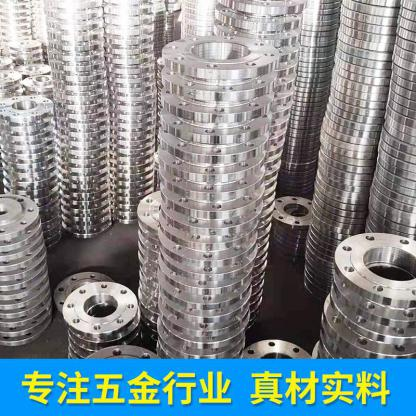FOD: (60, 278, 138, 334)
